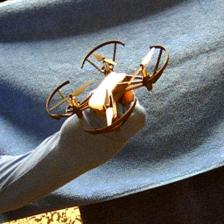drone: (44, 34, 172, 136)
